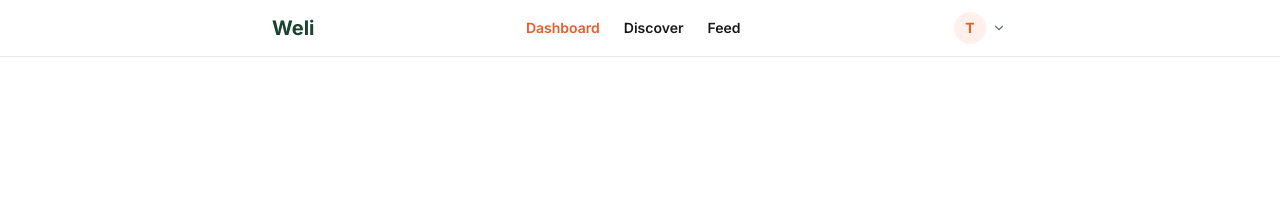
Test: NavBar › closes the dropdown when clicking outside
What coordinates should you click on to do the following:
click the button named "user menu"
I would click on:
 (980, 28)
Its box is [952,10,1008,46].
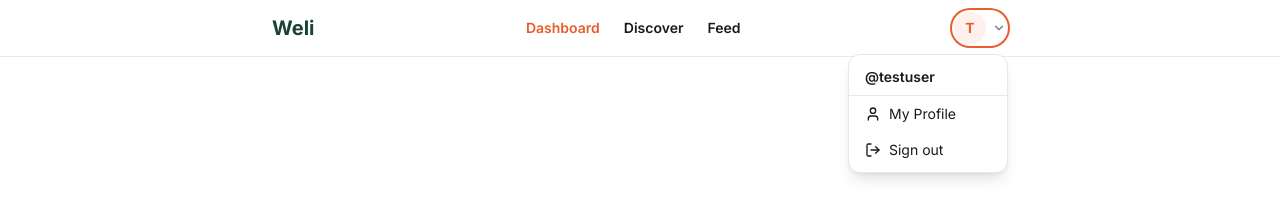
Now the menu is shown, box [848,54,1008,173]
What coordinates should you click on to do the following:
click the element showing "Weli Dashboard Discover Feed T @testuser My Profile Sign out"
I would click on:
 (640, 28)
Its box is [0,0,1279,57].
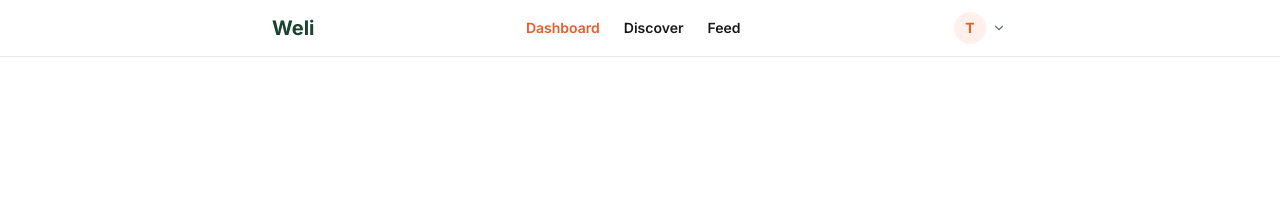
Now the menu is gone
